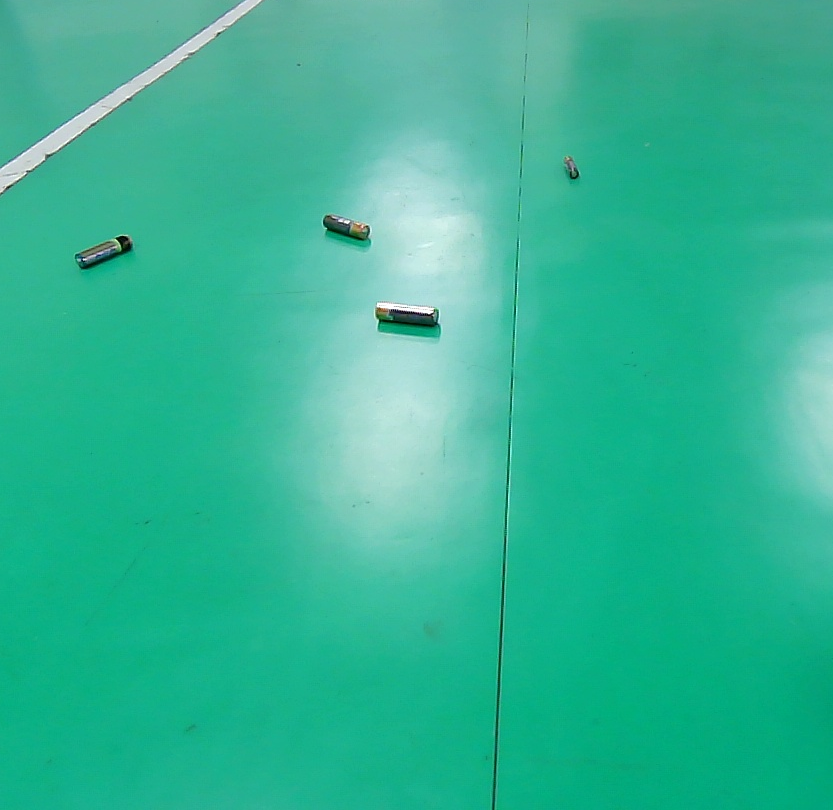battery: (361, 288, 450, 345), (58, 221, 142, 281), (308, 202, 389, 256), (550, 139, 592, 196)
